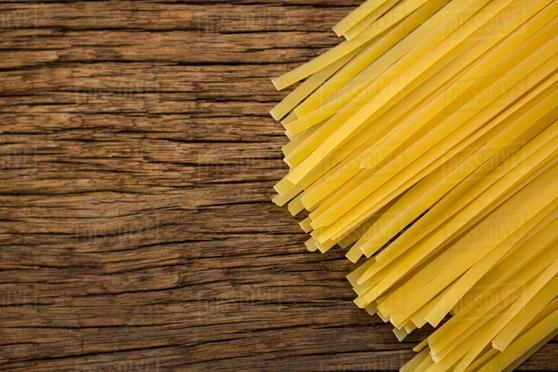spaghetti: (265, 4, 558, 370)
